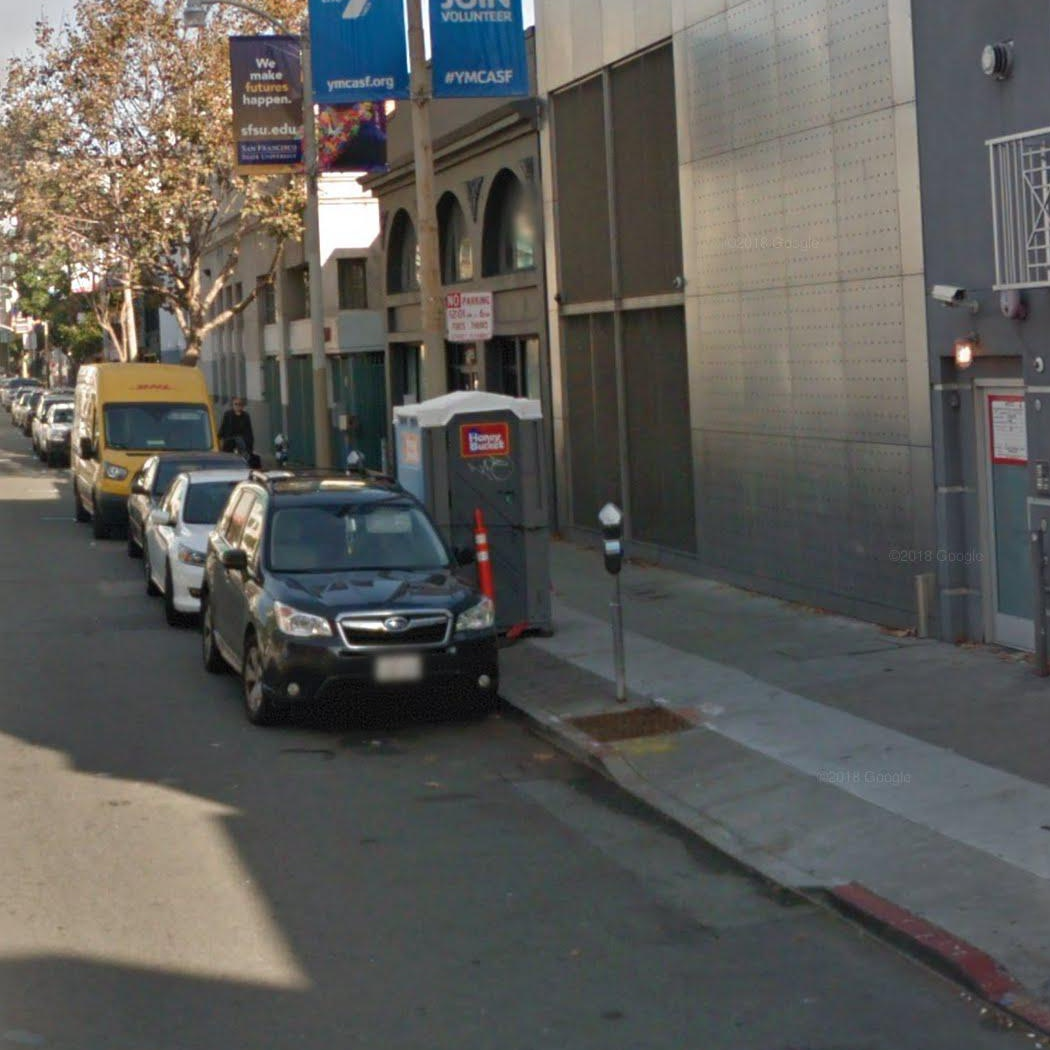No Parking: (442, 288, 496, 345)
